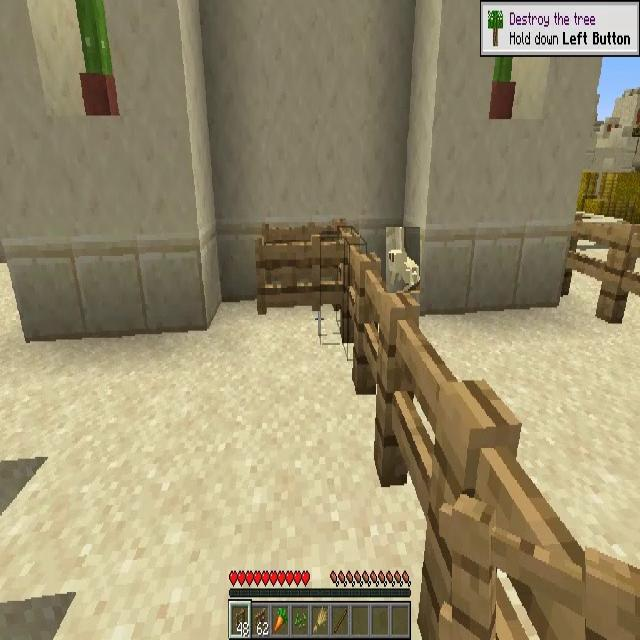rabbit: (386, 228, 420, 294)
